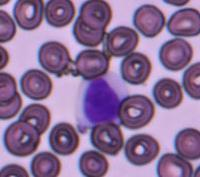L: (76, 73, 126, 127)
